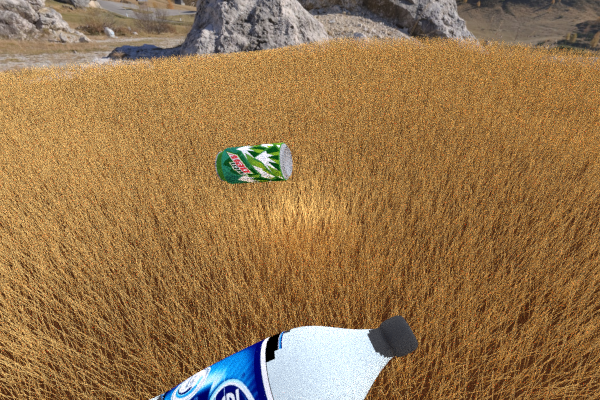bottle: (21, 315, 418, 400)
can: (214, 142, 292, 183), (386, 102, 417, 143)
